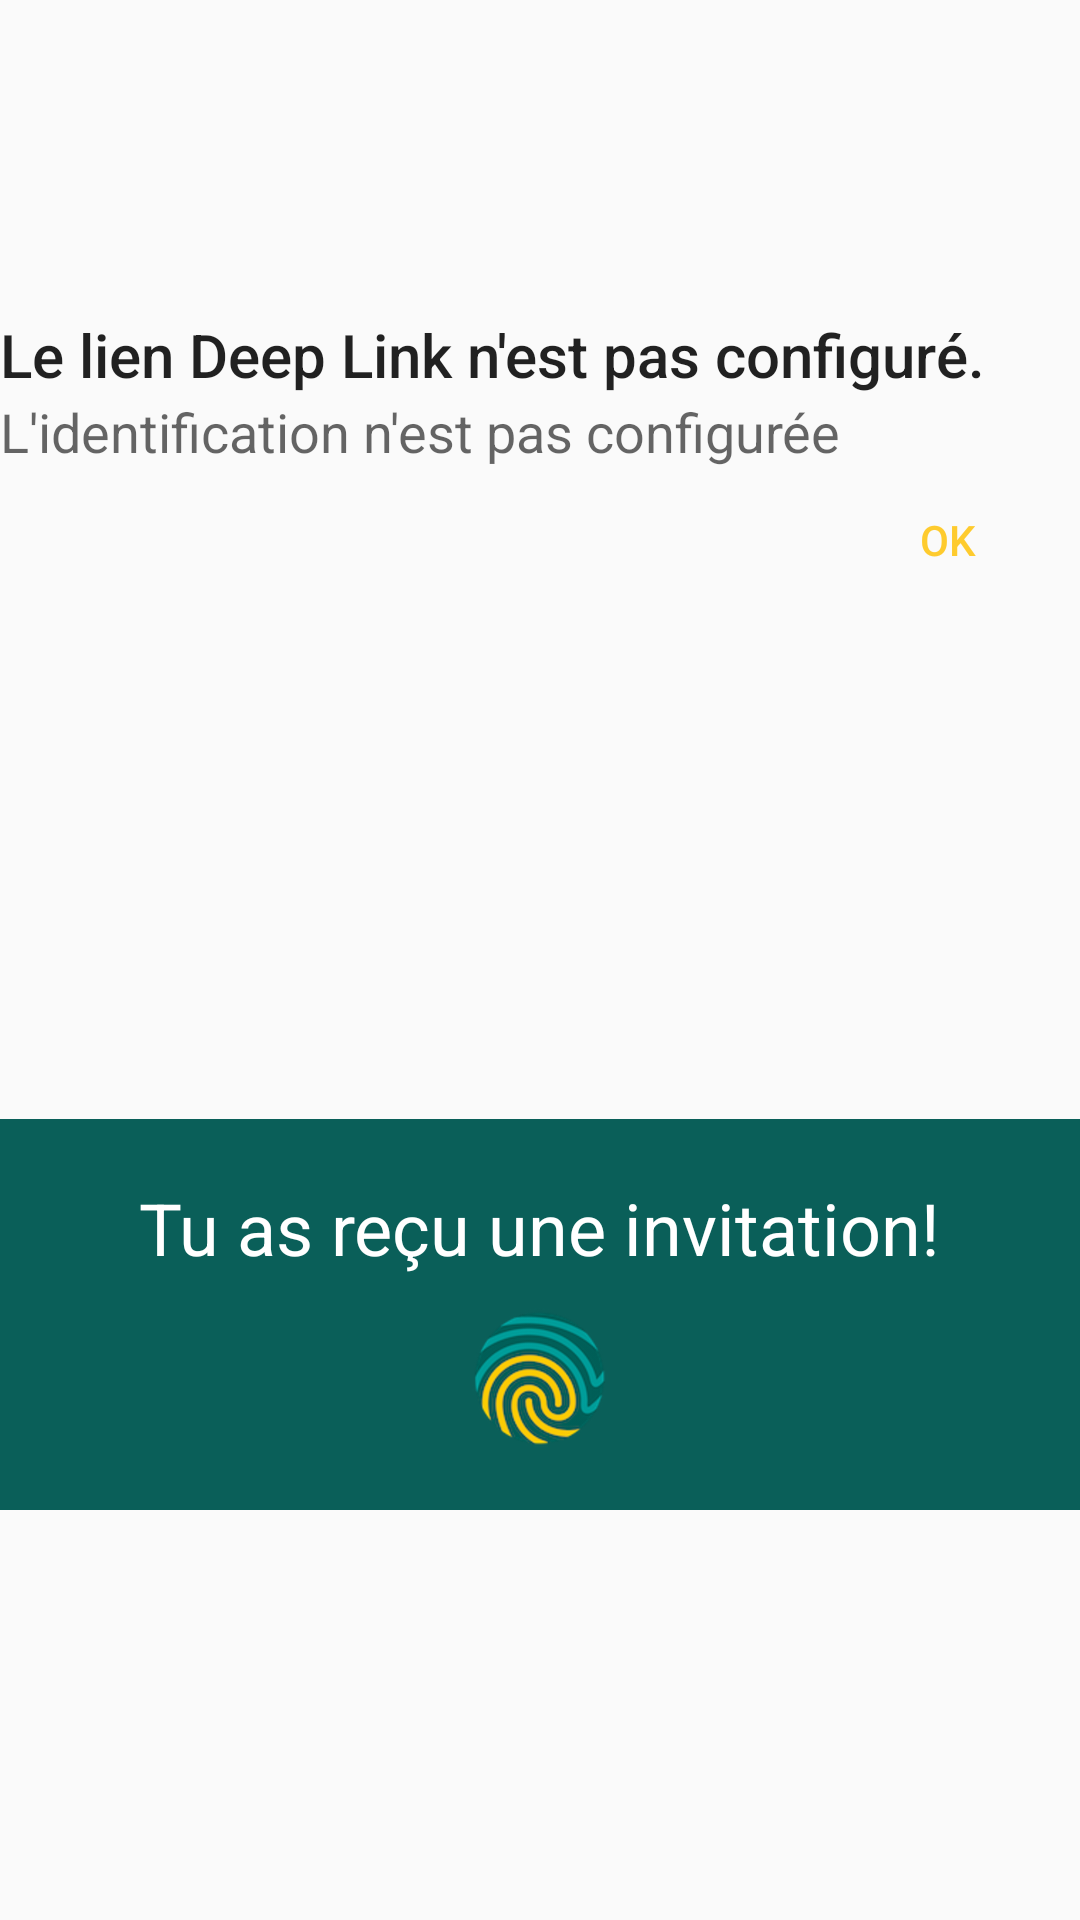

Icons on this 1080×1920 Android screen, each with the point to tap as (x,y):
empreinte: (539,1381)
